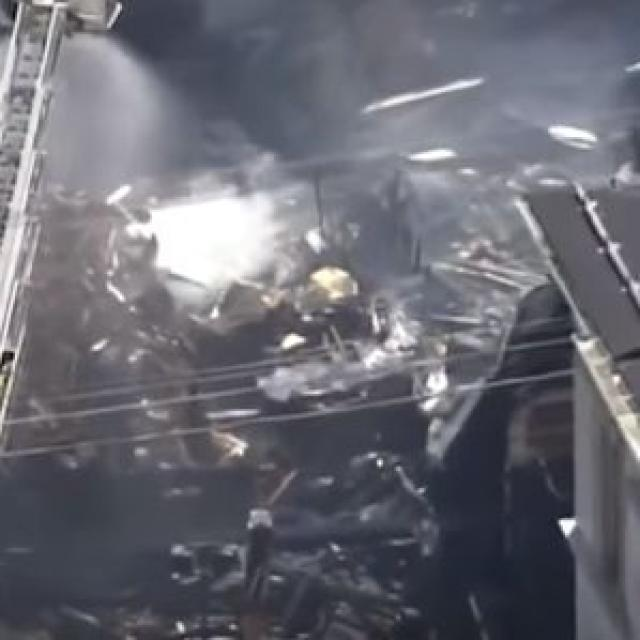collapsed_building: (32, 199, 522, 634)
